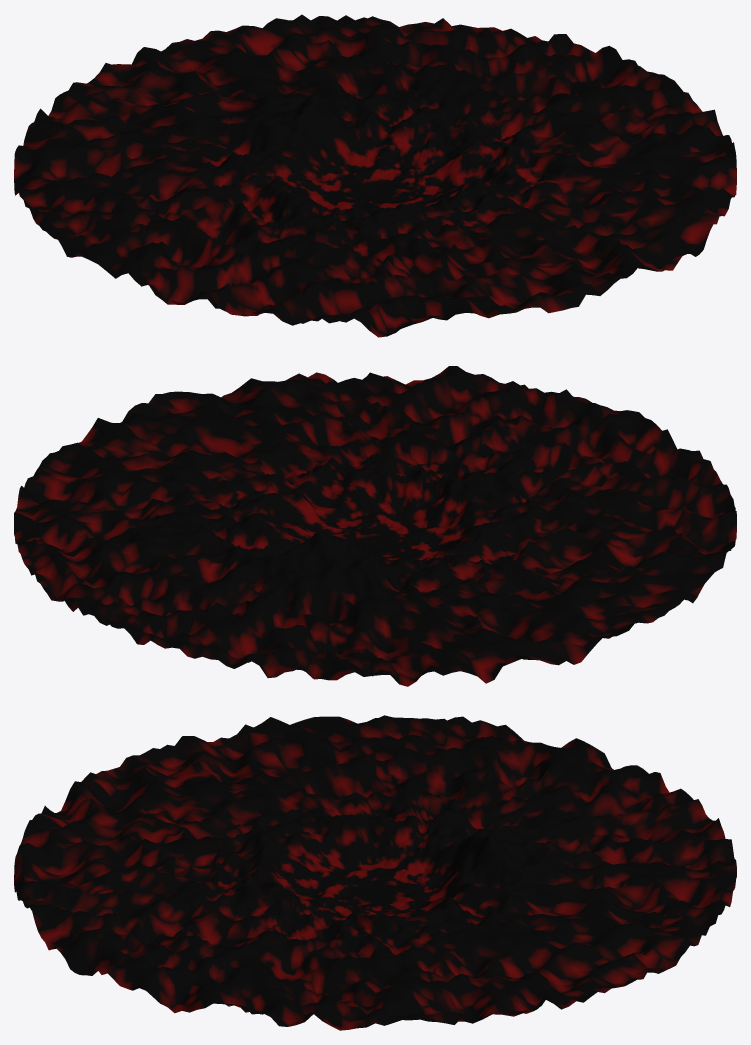
The model's file is terrain.glb.
3 renders of one model, top to bottom at view 1: azimuth 30°, elevation 25°; view 2: azimuth 150°, elevation 25°; view 3: azimuth 270°, elevation 25°, orthographic.
Visible parts, largest first — view 1: Terrain; view 2: Terrain; view 3: Terrain.
Part boxes in pixels (box(x1,y1,x2,y2)): Terrain: box(14, 14, 736, 337); Terrain: box(14, 366, 736, 686); Terrain: box(14, 715, 736, 1030).
Size of the model in its own units: 6528 by 565 by 6528.
